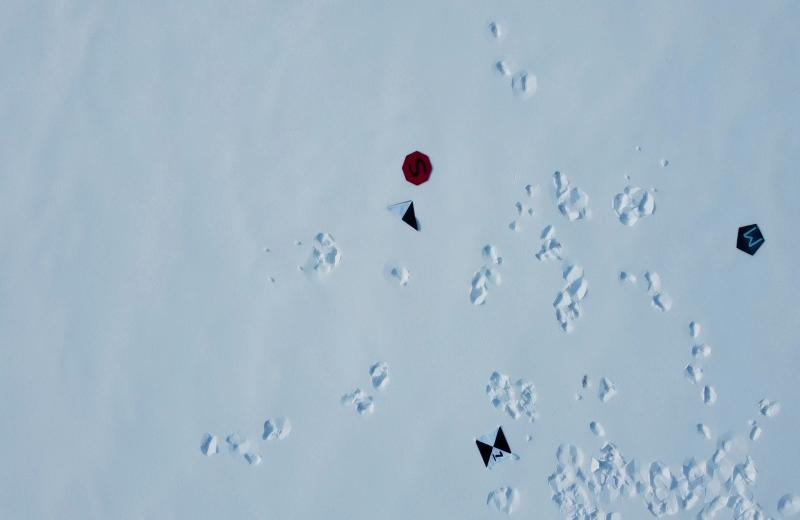Octagon: (400, 149, 434, 188)
Pentagon: (733, 220, 767, 259)
